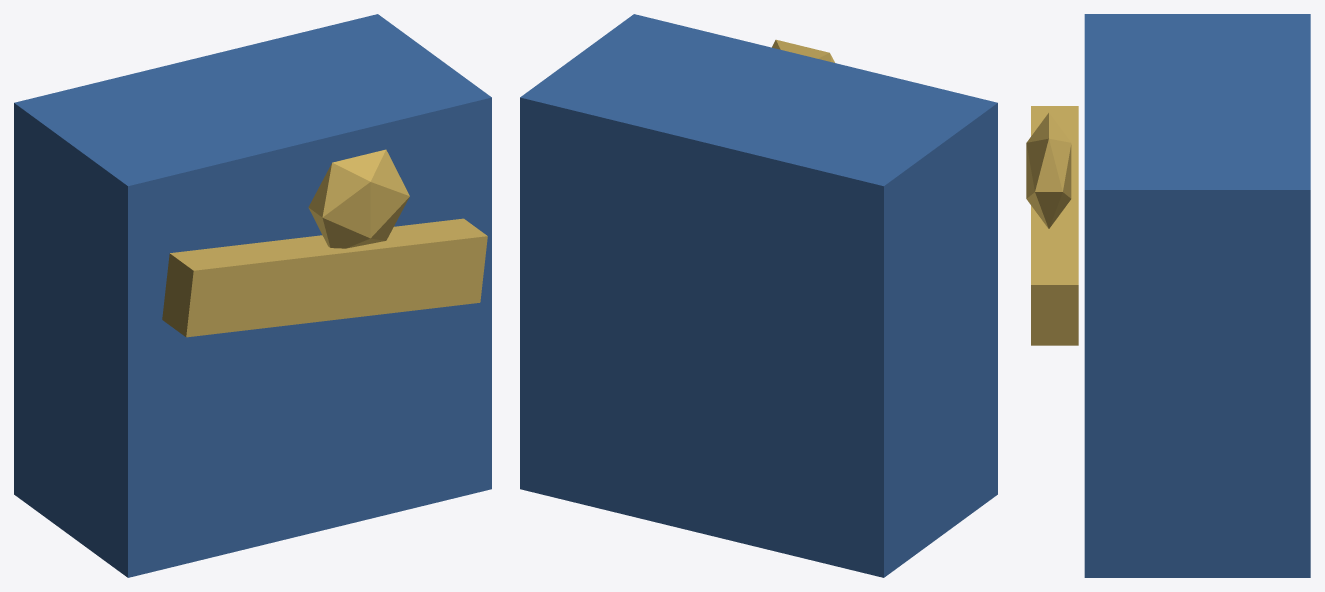
The model's file is gardener_outfit.glb.
3 renders of one model, left to right at view 1: azimuth 30°, elevation 25°; view 2: azimuth 150°, elevation 25°; view 3: azimuth 270°, elevation 25°, orthographic.
Parts seen in each view (by area): view 1: outfit_torso, outfit_trim, outfit_badge; view 2: outfit_torso; view 3: outfit_torso, outfit_trim, outfit_badge.
Boxes of the visible parts, box(x1,y1,x2,y2) form: outfit_torso: box(14, 14, 491, 577); outfit_trim: box(162, 218, 487, 337); outfit_badge: box(308, 149, 409, 248); outfit_torso: box(520, 14, 997, 577); outfit_torso: box(1084, 14, 1310, 577); outfit_trim: box(1031, 106, 1078, 345); outfit_badge: box(1026, 113, 1071, 228).
Size of the model in its own units: 0.7 by 0.72 by 0.4779.
